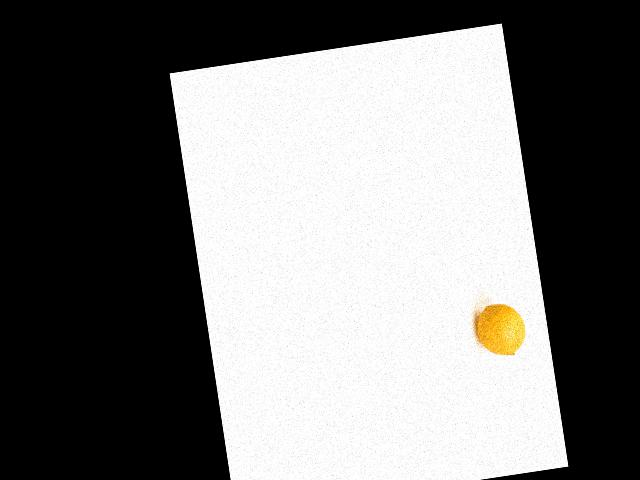lemon: (465, 293, 529, 361)
